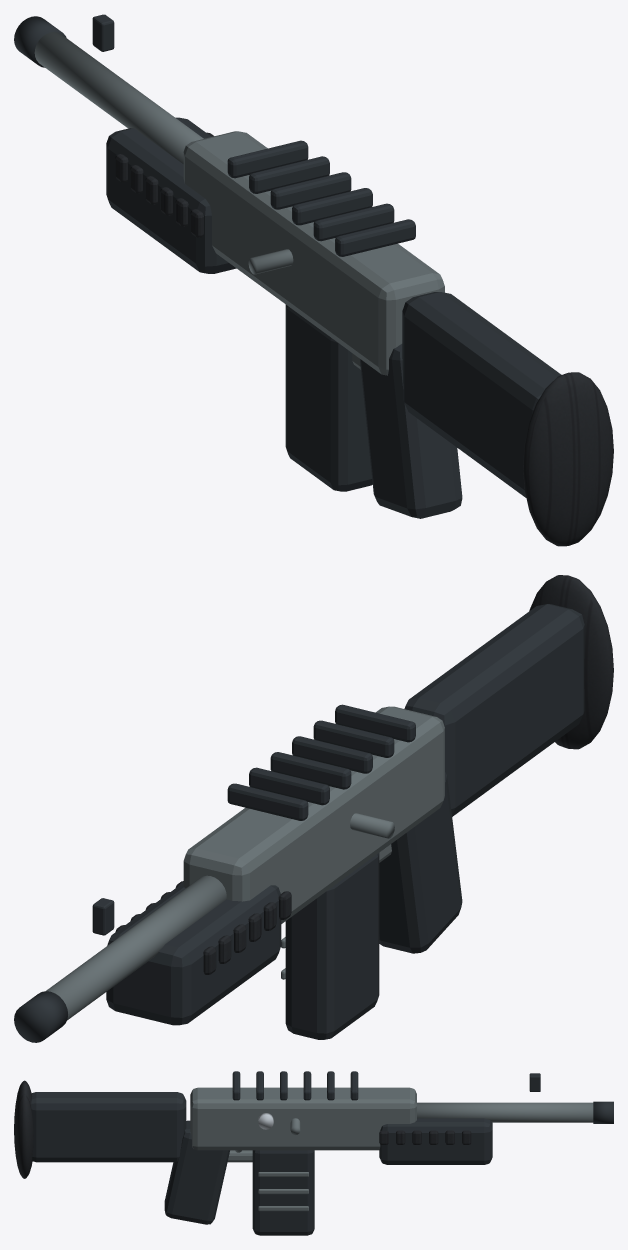
Rendered from mc_rifle.glb.
The picture shows the model from 3 angles, top to bottom: view 1: azimuth 30°, elevation 25°; view 2: azimuth 150°, elevation 25°; view 3: azimuth 270°, elevation 25°; orthographic projection. The views are drawn at different scales.
Visible parts, largest first — view 1: mc_rifle__Geometry; view 2: mc_rifle__Geometry; view 3: mc_rifle__Geometry.
Boxes of the visible parts, bbox=[...] form: mc_rifle__Geometry: bbox=[14, 14, 613, 546]; mc_rifle__Geometry: bbox=[14, 575, 613, 1042]; mc_rifle__Geometry: bbox=[14, 1071, 613, 1235].
Size of the model in its own units: 0.143 by 0.294 by 1.02.
Materials: 4 (1 with a texture image).
